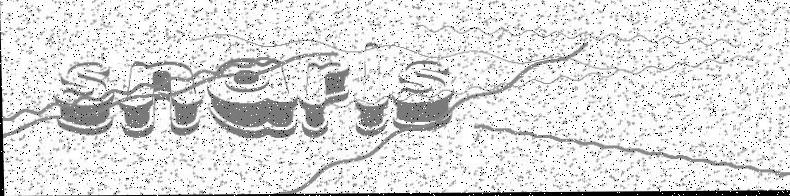a: (201, 49, 299, 143)
l: (351, 38, 391, 141)
n: (115, 54, 205, 142)
r: (292, 55, 356, 142)
s: (51, 53, 119, 140), (389, 57, 457, 134)
